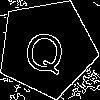Q: (22, 22, 67, 76)
